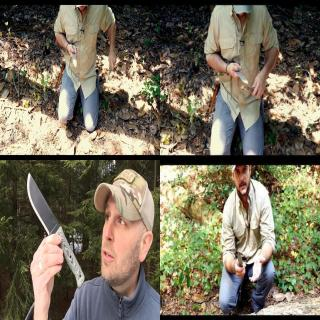knife: (24, 168, 66, 272), (227, 61, 249, 85), (236, 248, 246, 280), (68, 42, 78, 69)
